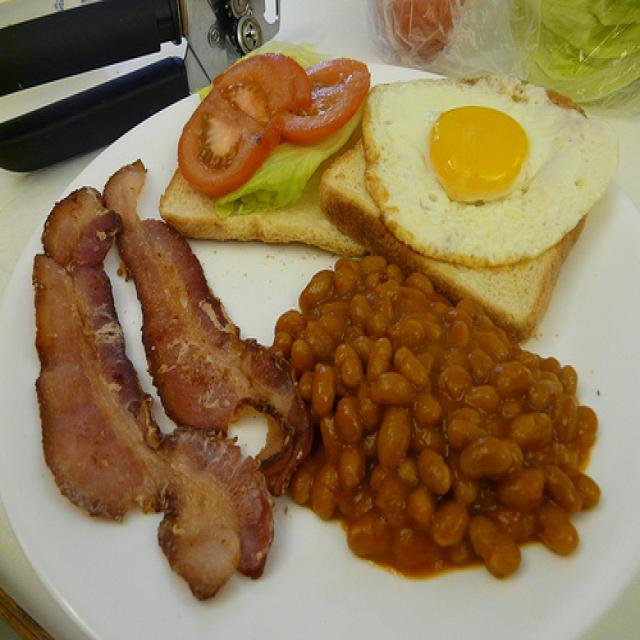鸡蛋料理: (368, 73, 618, 256)
